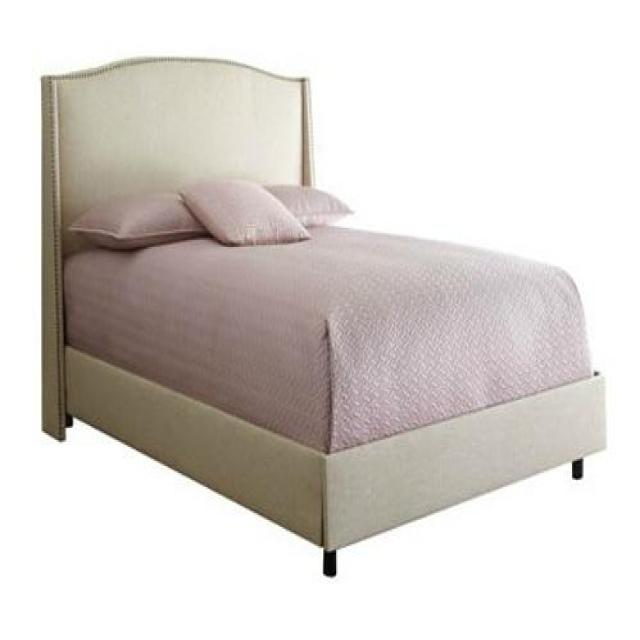bed: (39, 54, 606, 577)
